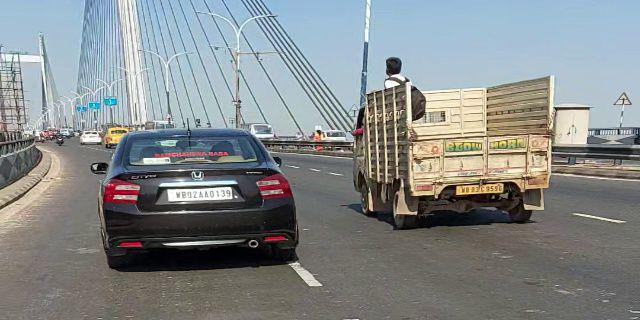Car: (88, 123, 304, 270)
Minitruck: (343, 75, 561, 233)
